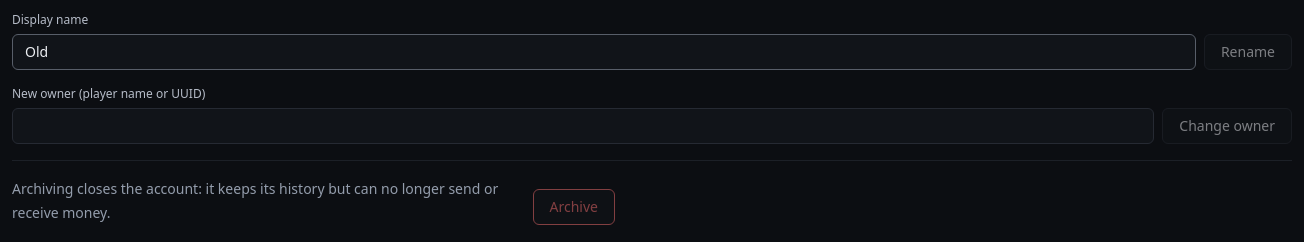
Test: AccountAdminPanel permissions › account.owner.change enables only Change owner
This screenshot has width=1304, height=242.
Type "!" into the field labelled "Display name". click: (604, 52)
box: [12,34,1196,70]
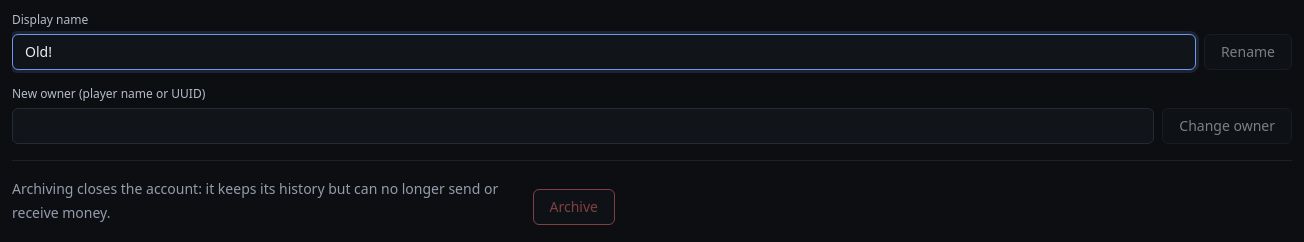
Type "Alex" into the field labelled "New owner". click: (583, 126)
box: [12,108,1154,144]
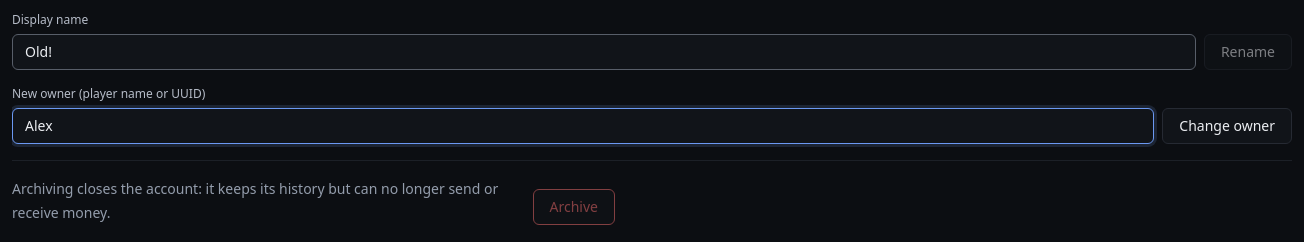
Expected: the button "Rename" is disabled, [1204,34,1292,70]
Result: the button "Change owner" is enabled at [1162,108,1292,144]
